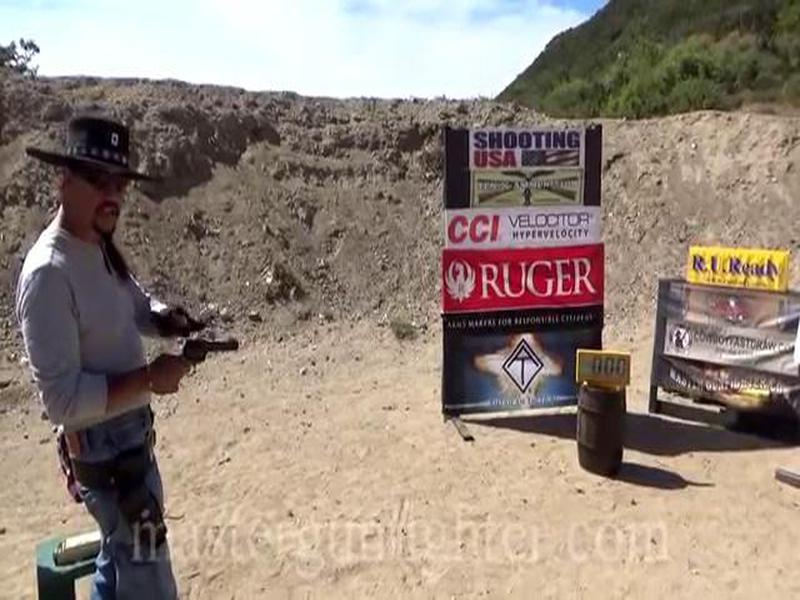Revolver: (165, 332, 253, 399)
